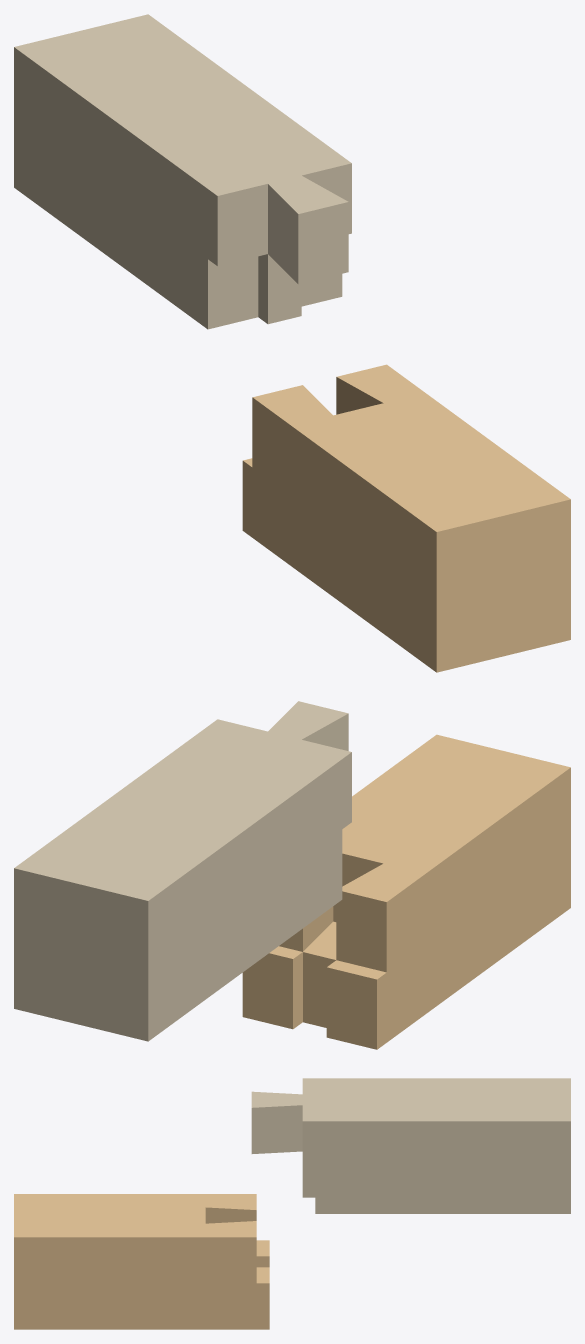
3 views of the same model, one above another, from view 1: azimuth 30°, elevation 25°; view 2: azimuth 150°, elevation 25°; view 3: azimuth 270°, elevation 25° (orthographic). The views are drawn at different scales.
Size of the model in its own units: 0.2 by 0.45 by 1.09.
